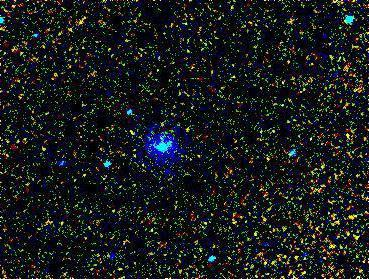star: (170, 113, 200, 143)
